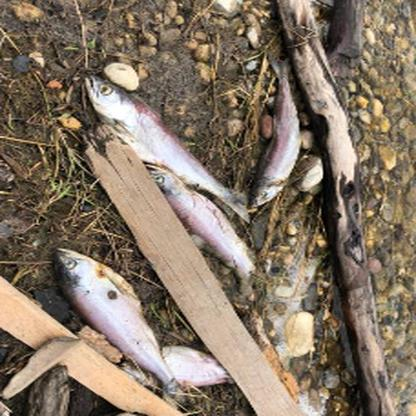deceased fish: (80, 76, 251, 214), (52, 244, 185, 397), (146, 169, 260, 281), (247, 52, 299, 211)
